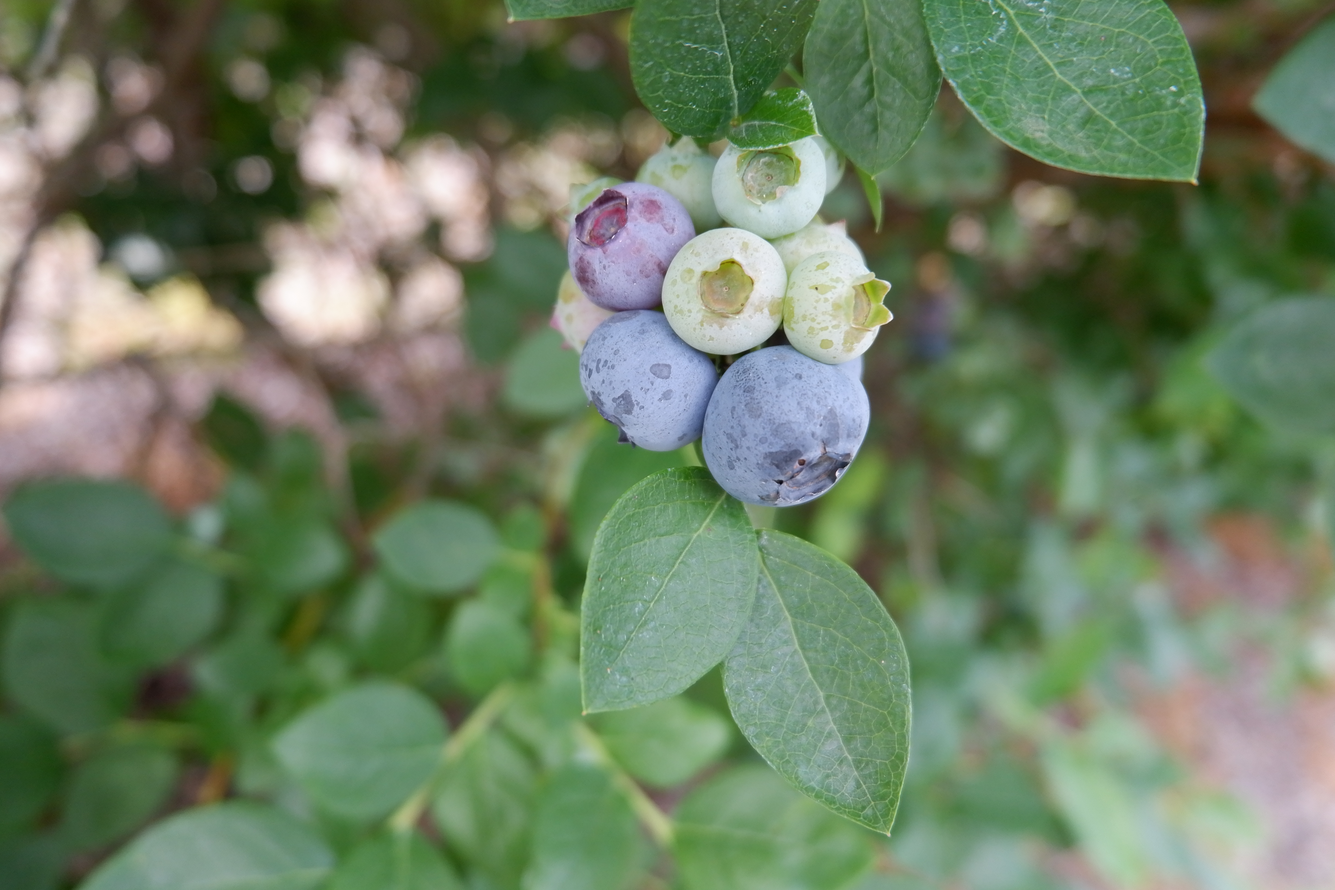Immature: (664, 228, 783, 348), (784, 248, 889, 360), (715, 138, 826, 236), (636, 140, 724, 233), (772, 214, 861, 273), (553, 272, 619, 350), (556, 176, 625, 225), (809, 126, 848, 195)
Mature: (702, 347, 871, 503), (583, 312, 716, 451), (569, 185, 693, 308), (837, 356, 862, 379)
